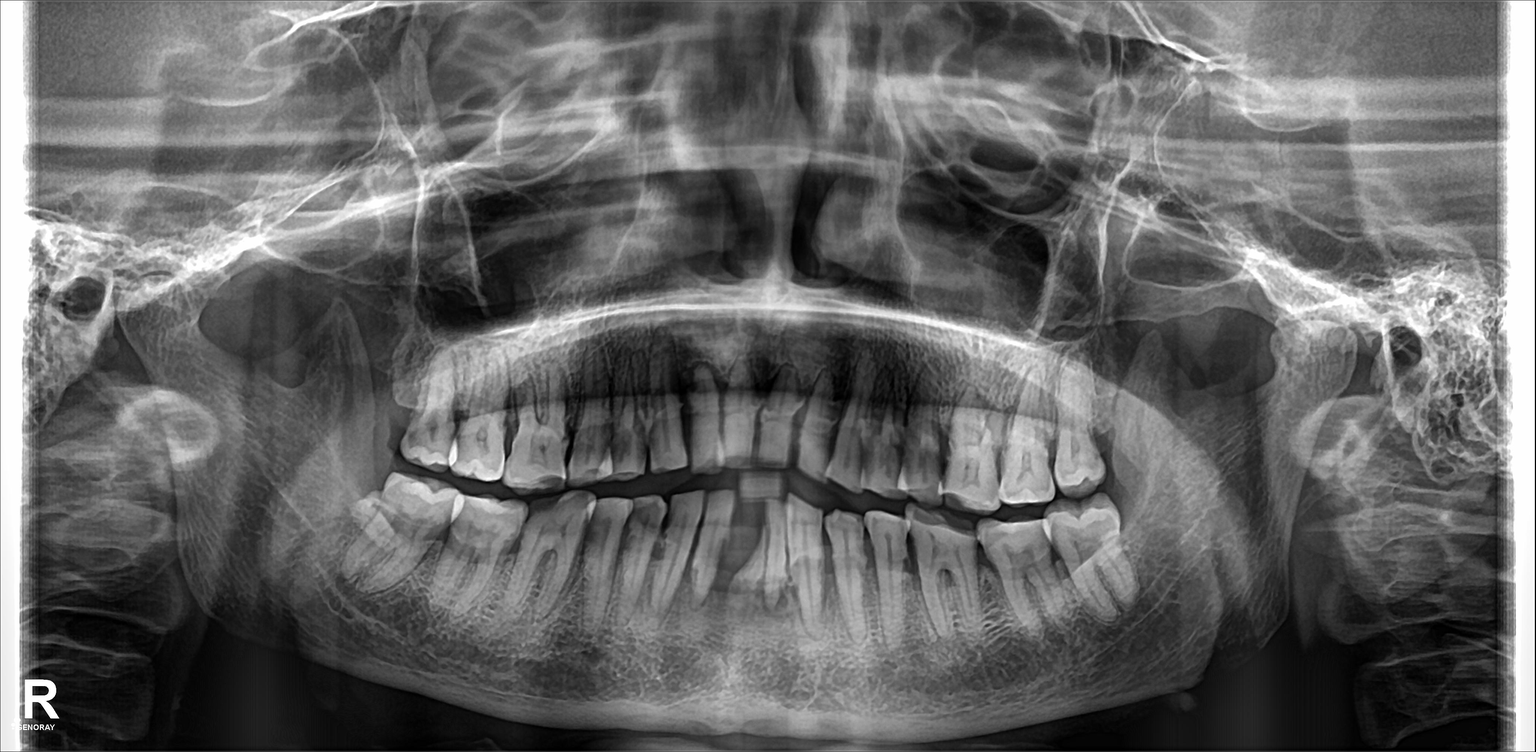Dental Caries: (605, 424, 630, 460)
Missing Tooth: (365, 365, 414, 460)
